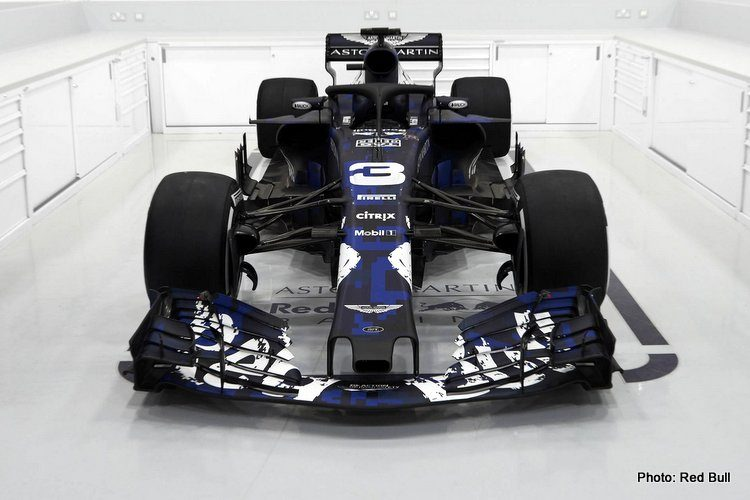f1_car: (109, 17, 633, 432)
